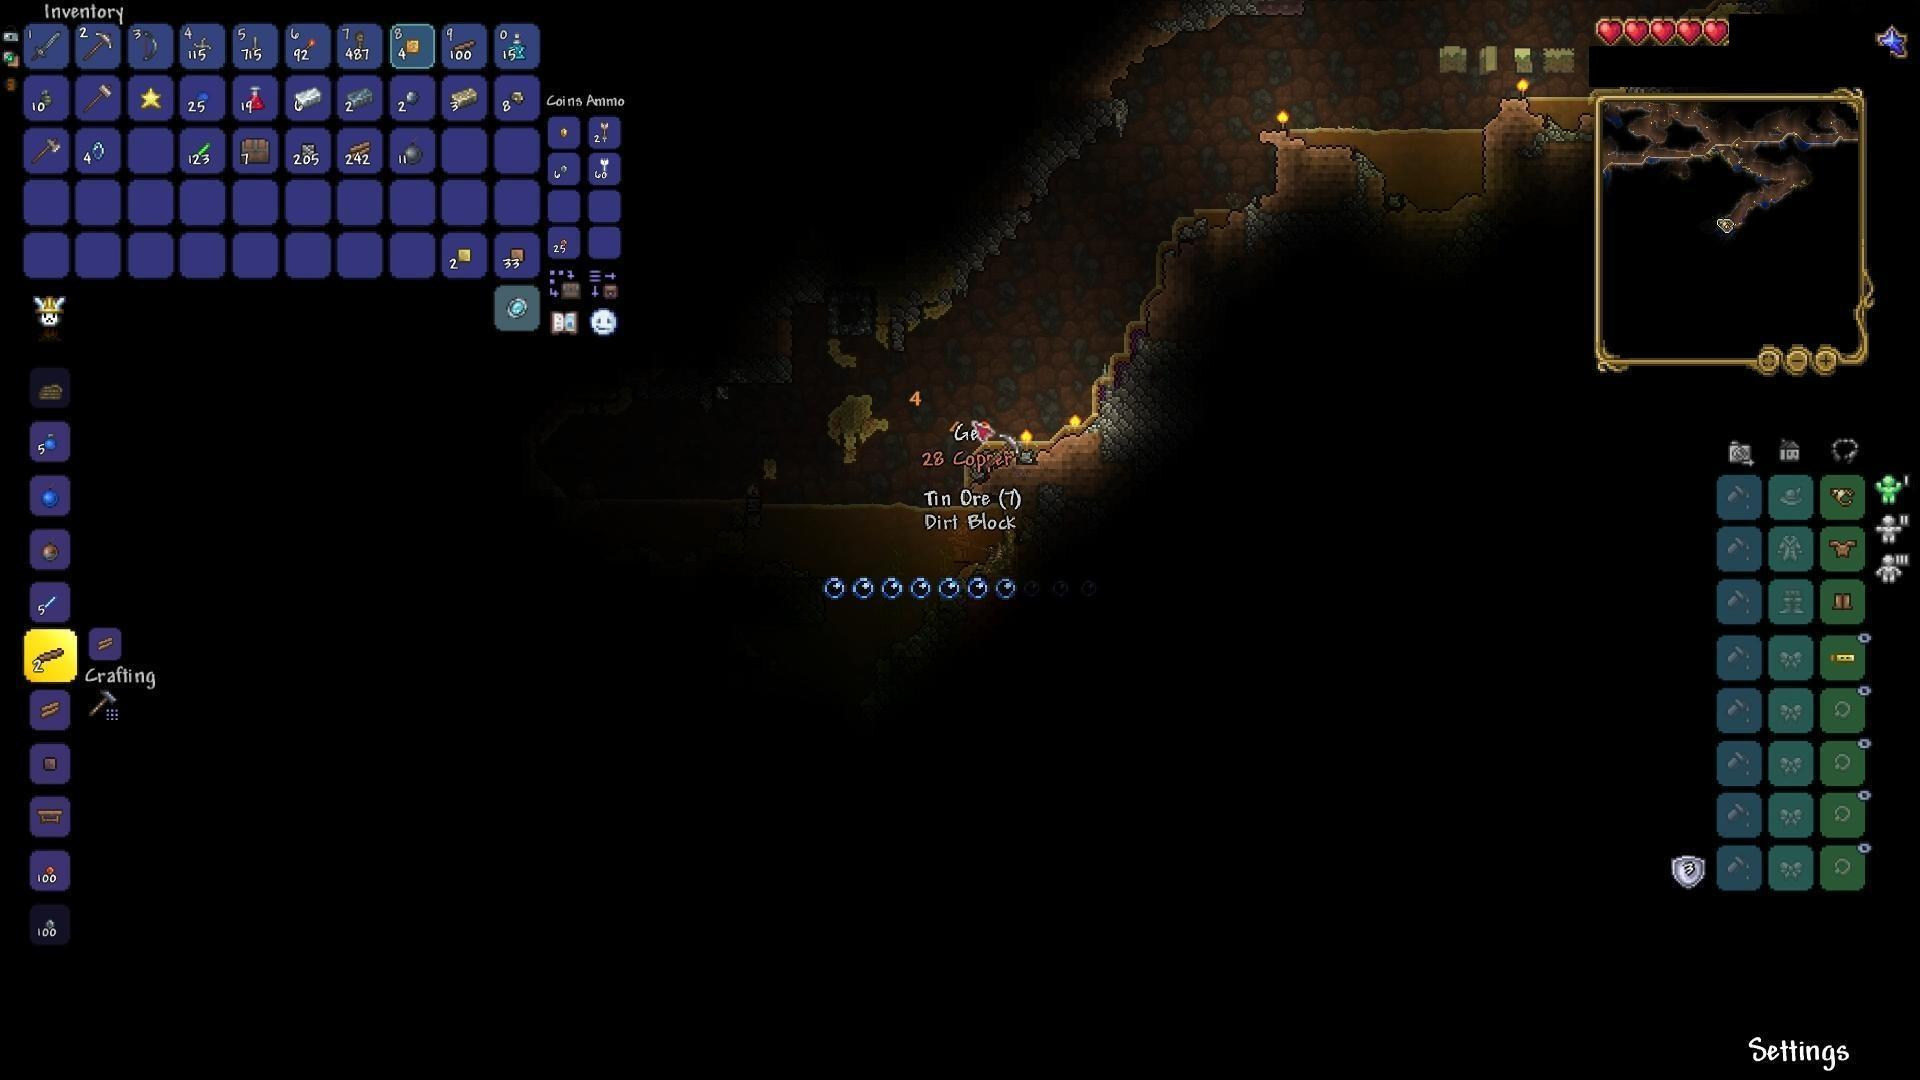heart: (1702, 17, 1733, 51), (1593, 16, 1626, 46), (1676, 15, 1704, 50), (1650, 16, 1676, 49), (1625, 15, 1651, 44)
liquid: (785, 485, 927, 527)
sand: (822, 381, 894, 472)
stone: (949, 182, 1023, 290), (1093, 375, 1162, 485), (1040, 76, 1120, 169)
